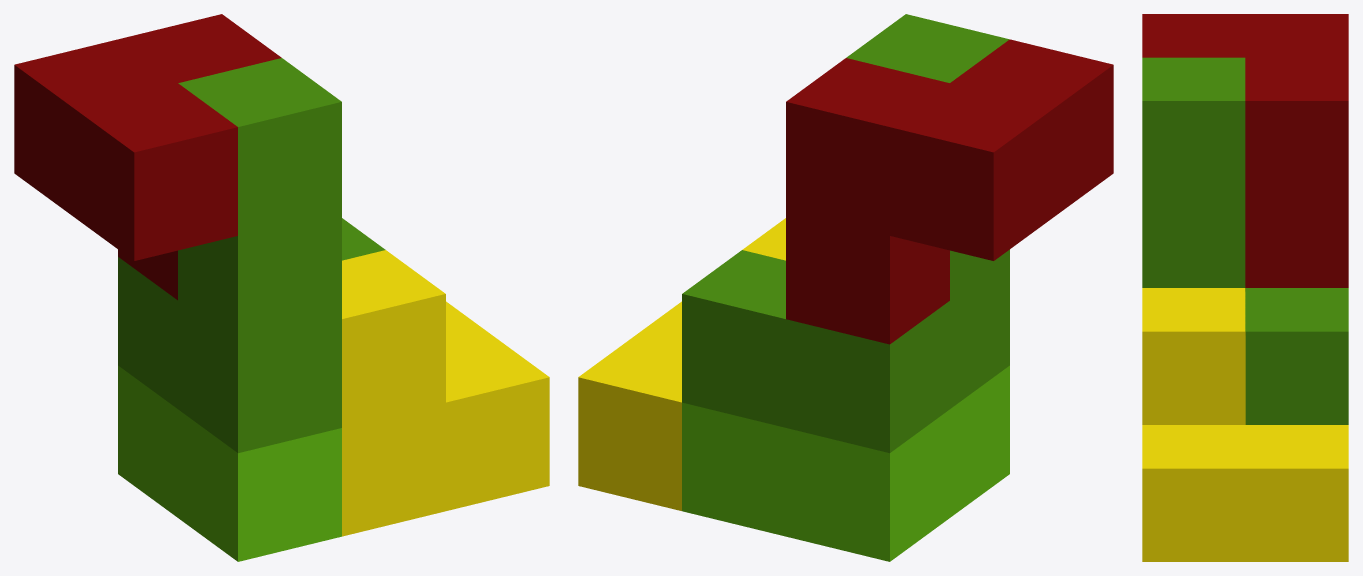
The picture shows the model from 3 angles, left to right: view 1: azimuth 30°, elevation 25°; view 2: azimuth 150°, elevation 25°; view 3: azimuth 270°, elevation 25°; orthographic projection. The views are drawn at different scales.
Visible parts, largest first — view 1: mergedBlocks(Clone); view 2: mergedBlocks(Clone); view 3: mergedBlocks(Clone).
Part boxes in pixels (x1,y1,x2,y2): mergedBlocks(Clone): (14, 14, 549, 561); mergedBlocks(Clone): (578, 14, 1113, 561); mergedBlocks(Clone): (1142, 14, 1348, 561).
Bounding box in the file's own units: 4 × 4 × 2.
Materials: 4 (4 with a texture image).
